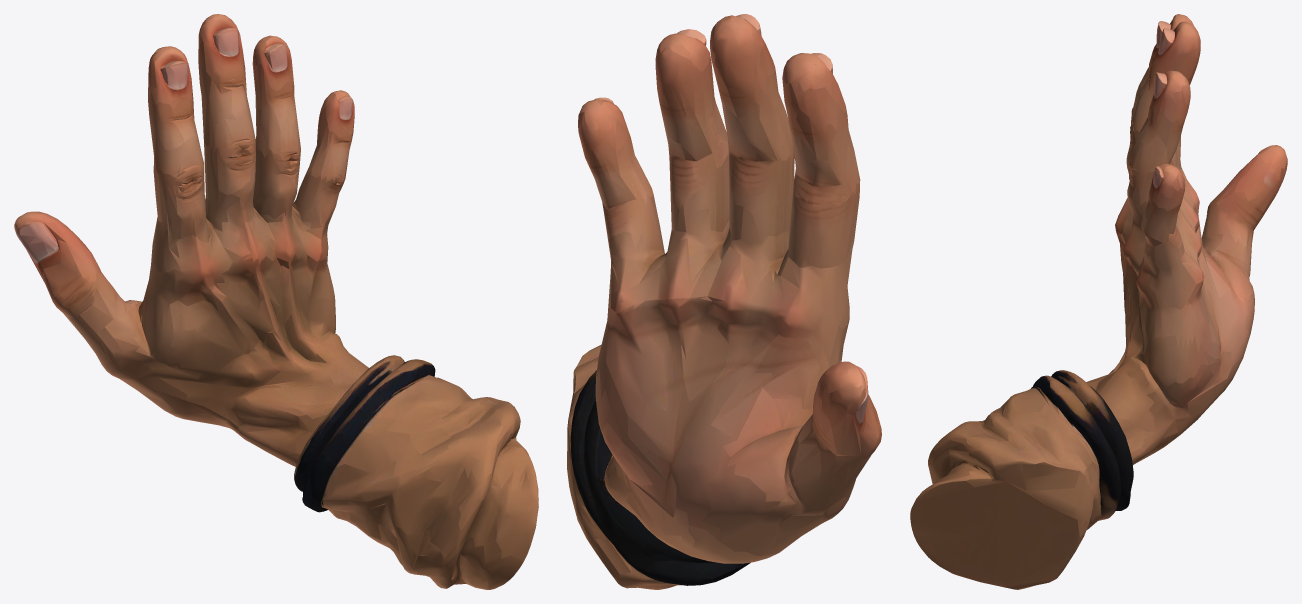
The model's file is hand.glb.
The picture shows the model from 3 angles, left to right: view 1: azimuth 30°, elevation 25°; view 2: azimuth 150°, elevation 25°; view 3: azimuth 270°, elevation 25°; orthographic projection. The views are drawn at different scales.
Bounding box in the file's own units: 1.31 × 1.9 × 1.3.
1 material, 1 textured.
